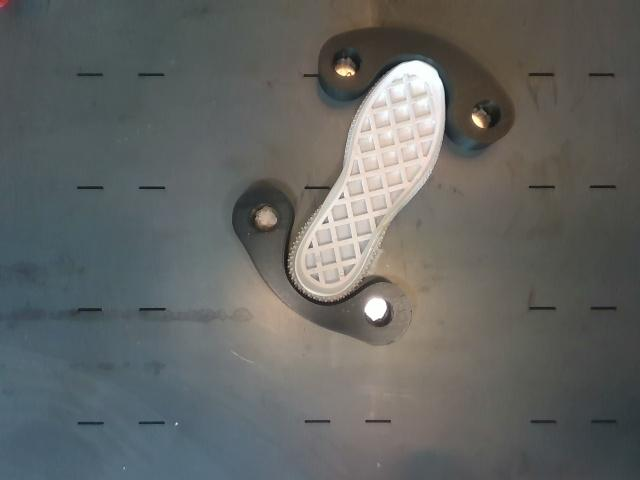shoes: (295, 63, 445, 295)
